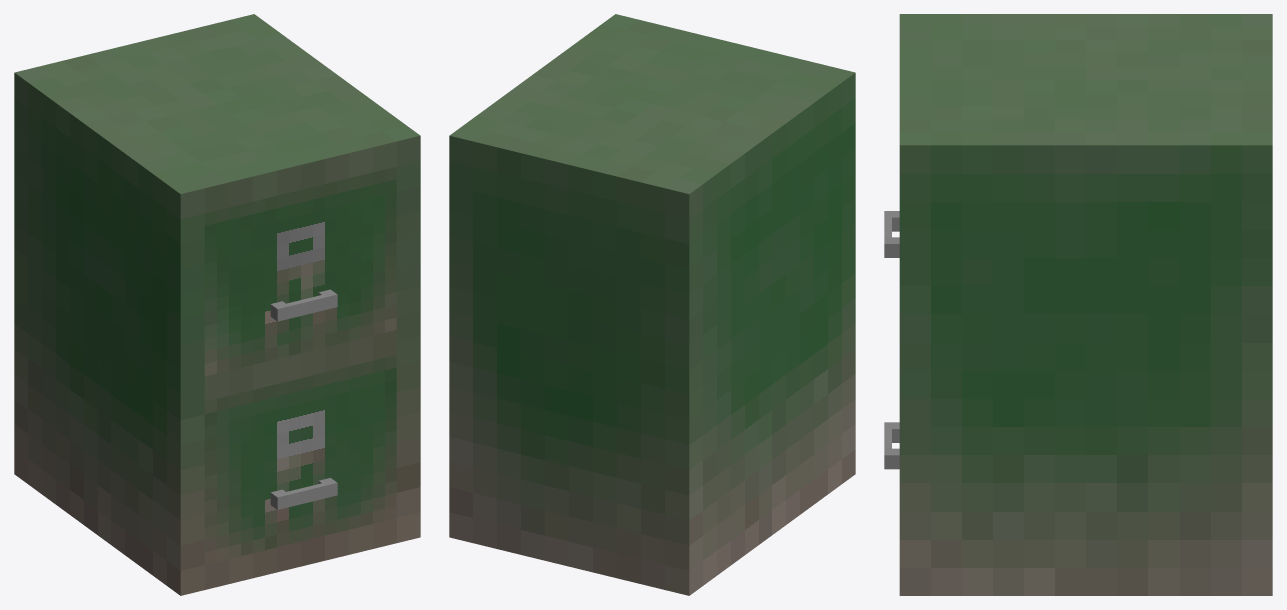
File: file_cabinet.obj
3 views of the same model, side by side, from view 1: azimuth 30°, elevation 25°; view 2: azimuth 150°, elevation 25°; view 3: azimuth 270°, elevation 25° (orthographic). The views are drawn at different scales.
Visible parts, largest first — view 1: Cabinet, UpperDrawer, LowerDrawer; view 2: Cabinet; view 3: Cabinet, LowerDrawer, UpperDrawer.
Part boxes in pixels (x1,y1,x2,y2): Cabinet: (14,14,420,595); UpperDrawer: (204,166,396,376); LowerDrawer: (204,355,396,564); Cabinet: (449,14,855,595); Cabinet: (899,14,1272,595); LowerDrawer: (884,422,899,469); UpperDrawer: (884,211,899,257).
Bounding box in the file's own units: 0.625 × 1 × 0.7812.
